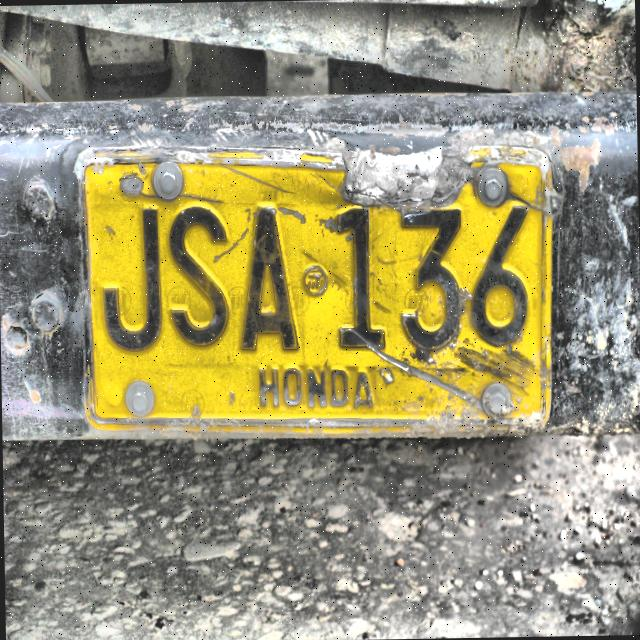1: (329, 205, 392, 356)
3: (393, 202, 469, 360)
6: (468, 201, 536, 358)
A: (233, 194, 302, 357)
J: (96, 199, 164, 361)
S: (163, 197, 234, 360)
